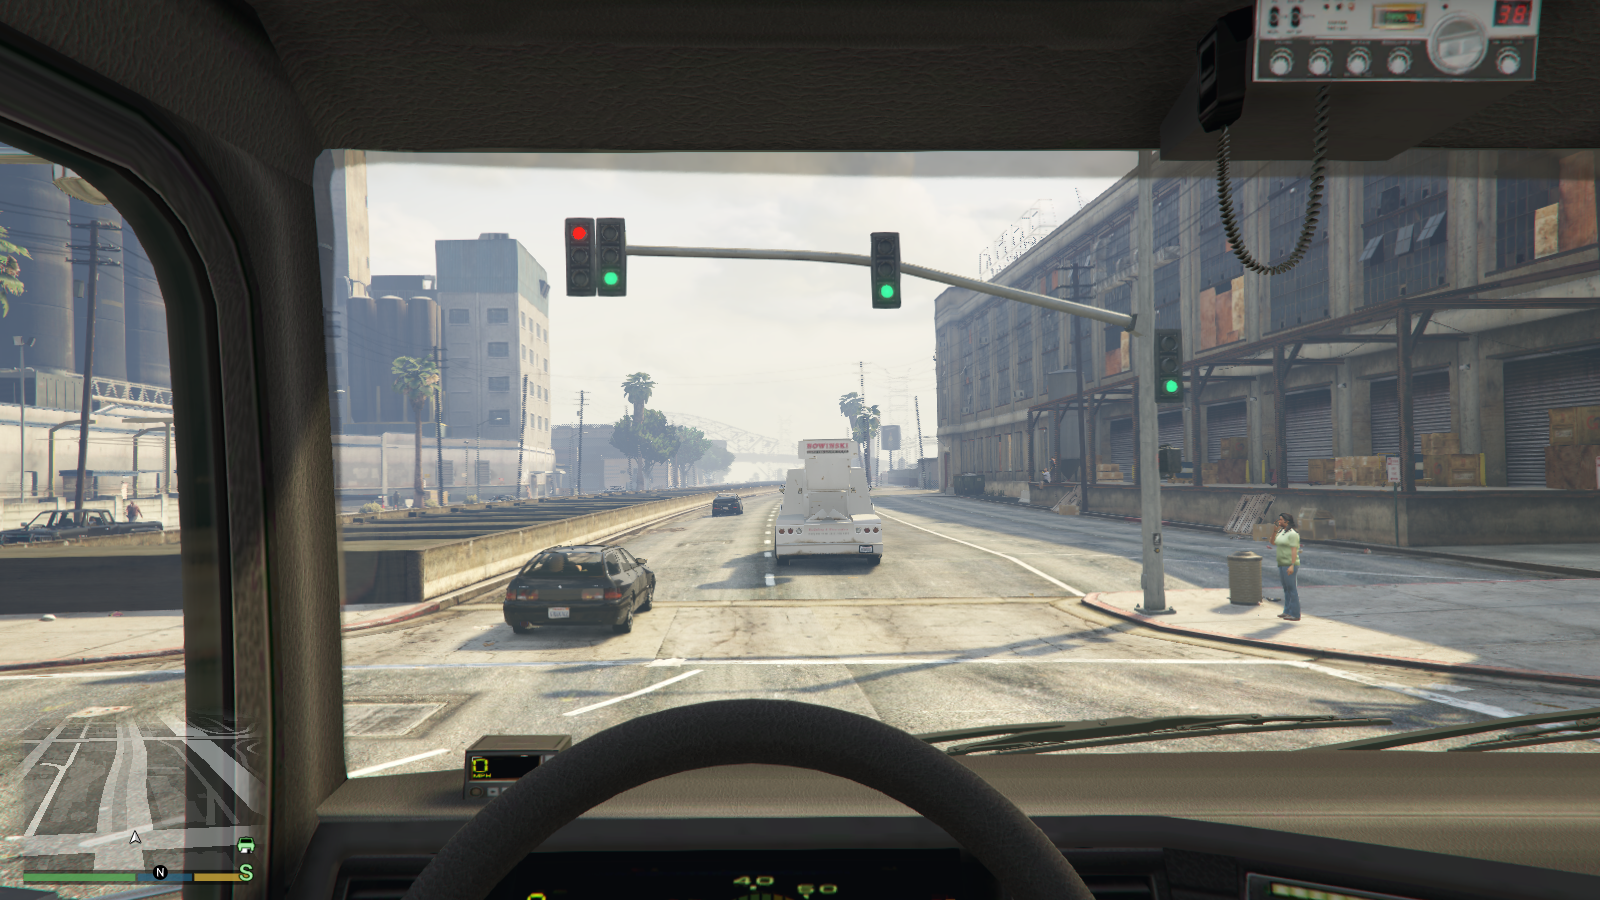green: (869, 231, 902, 310), (595, 216, 624, 299), (1155, 330, 1185, 403)
